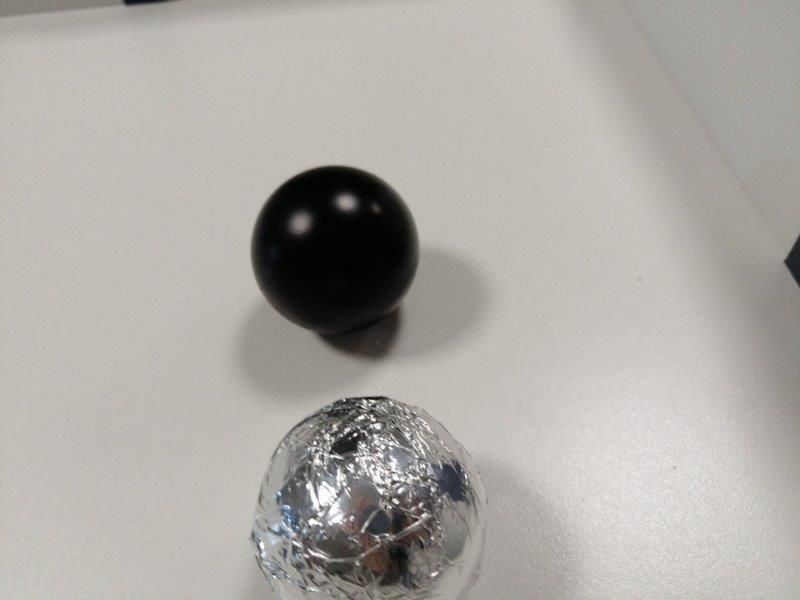bianca: (252, 397, 485, 599)
nera: (250, 164, 417, 333)
